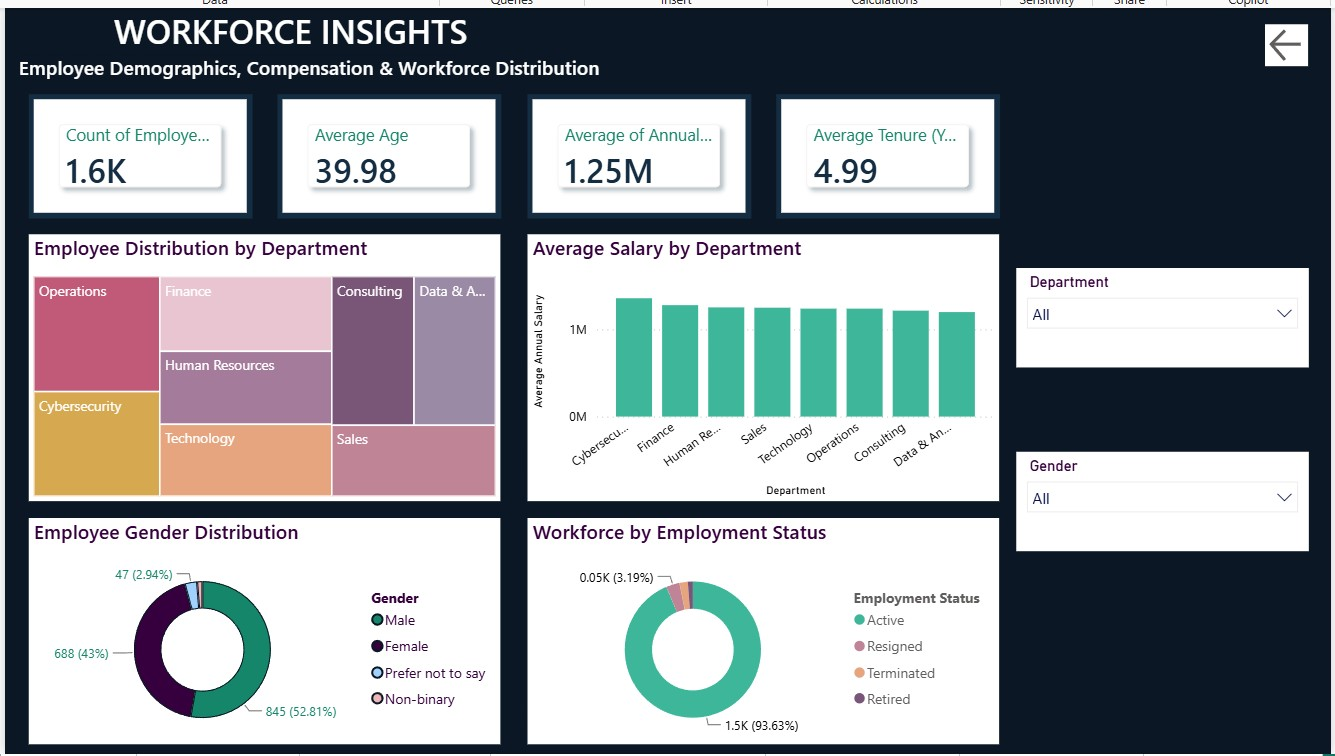

Layout of this report page (visuals, bound fields, positions):
{"tool":"powerbi","page":{"name":"Workforce Insights","canvas":[1280,720],"ordinal":6},"visuals":[{"type":"textbox","title":"WORKFORCE INSIGHTS","box":[74,0,404.5,35.7],"z":0},{"type":"textbox","title":"Employee Demographics, Compensation & Workforce Distribution","box":[0,44.7,587,29.4],"z":1000},{"type":"cardVisual","fields":{"Data":["Count(Employee_Master_Raw.Employee ID)"]},"box":[23,83,215.7,120],"z":2000},{"type":"cardVisual","fields":{"Data":["Employee_Master_Raw.Average Tenure (Years)"]},"box":[744,83,215.7,120],"z":3000},{"type":"cardVisual","fields":{"Data":["Avg(Employee_Master_Raw.Annual Salary)"]},"box":[504.1,83,215.7,120],"z":4000},{"type":"cardVisual","fields":{"Data":["Employee_Master_Raw.Average Age"]},"box":[262.9,83,215.7,120],"z":5000},{"type":"donutChart","title":"Employee Gender Distribution","fields":{"Category":["Employee_Master_Raw.Gender"],"Y":["Count(Employee_Master_Raw.Employee ID)"]},"box":[23,492.6,455.6,218.2],"z":6000},{"type":"treemap","title":"Employee Distribution by Department","fields":{"Group":["Employee_Master_Raw.Department"],"Values":["Count(Employee_Master_Raw.Employee ID)"]},"box":[23,218.2,455.6,257.8],"z":7000},{"type":"clusteredColumnChart","title":"Average Salary by Department","fields":{"Category":["Employee_Master_Raw.Department"],"Y":["Employee_Master_Raw.Average Annual Salary"]},"box":[504.1,218.2,455.6,257.8],"z":8000},{"type":"donutChart","title":"Workforce by Employment Status","fields":{"Category":["Employee_Master_Raw.Employment Status"],"Y":["Count(Employee_Master_Raw.Employee ID)"]},"box":[504.1,492.6,455.6,218.2],"z":9000},{"type":"slicer","fields":{"Values":["Employee_Master_Raw.Department"]},"box":[976.3,251.4,282,95.7],"z":10000},{"type":"slicer","fields":{"Values":["Employee_Master_Raw.Gender"]},"box":[976.3,428.8,282,95.7],"z":11000},{"type":"actionButton","box":[1216.1,15.9,41.9,40.5],"z":12000}]}

Visuals, with their boxes on the page's 1280x720 design canvas (x1, y1, x2, y2). These are canvas units, not pixel positions in the 1335x756 screenshot, which may show the page scaled, cropped or inside an application window:
"WORKFORCE INSIGHTS" textbox: box(74, 0, 478, 36)
"Employee Demographics, Compensation & Workforce Distribution" textbox: box(0, 45, 587, 74)
cardVisual - Count(Employee_Master_Raw.Employee ID): box(23, 83, 239, 203)
cardVisual - Employee_Master_Raw.Average Tenure (Years): box(744, 83, 960, 203)
cardVisual - Avg(Employee_Master_Raw.Annual Salary): box(504, 83, 720, 203)
cardVisual - Employee_Master_Raw.Average Age: box(263, 83, 479, 203)
"Employee Gender Distribution" donutChart: box(23, 493, 479, 711)
"Employee Distribution by Department" treemap: box(23, 218, 479, 476)
"Average Salary by Department" clusteredColumnChart: box(504, 218, 960, 476)
"Workforce by Employment Status" donutChart: box(504, 493, 960, 711)
slicer - Employee_Master_Raw.Department: box(976, 251, 1258, 347)
slicer - Employee_Master_Raw.Gender: box(976, 429, 1258, 524)
actionButton: box(1216, 16, 1258, 56)
